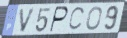5: (34, 7, 52, 33)
9: (104, 5, 120, 31)
C: (68, 6, 87, 32)
O: (85, 6, 103, 32)
P: (48, 6, 70, 34)
V: (19, 7, 37, 34)
